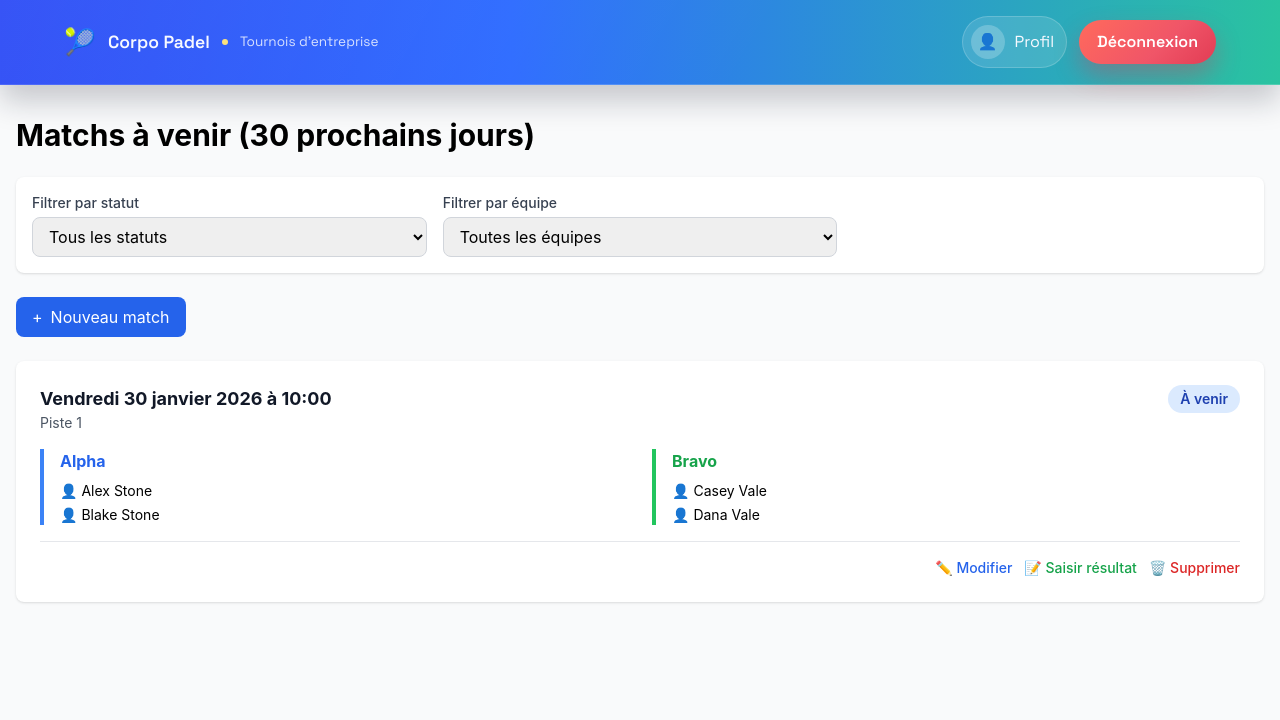
Test: Gestion des matchs › saisit un resultat et met a jour le statut
The width and height of the screenshot is (1280, 720).
Click the button "📝 Saisir résultat" at (1081, 568), box [1024,558,1137,578]
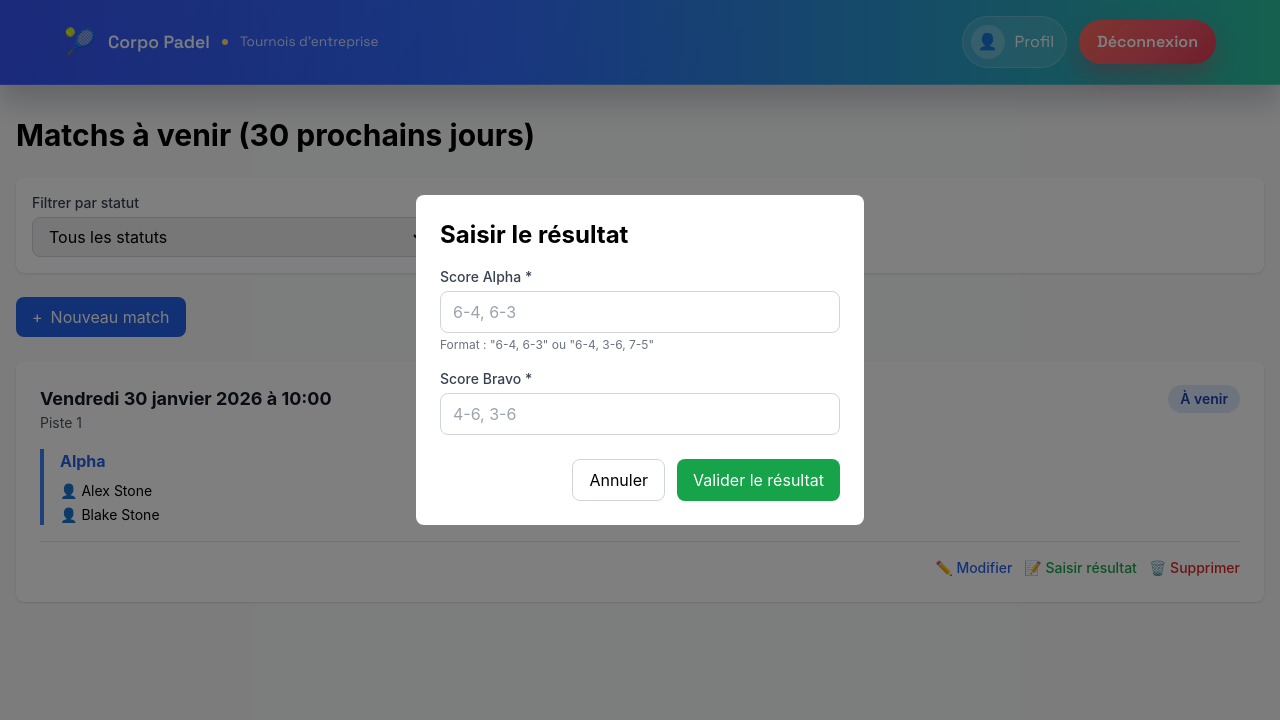
Type "6-4, 6-4" into the field with placeholder "6-4, 6-3" at (640, 312), box [440,291,840,333]
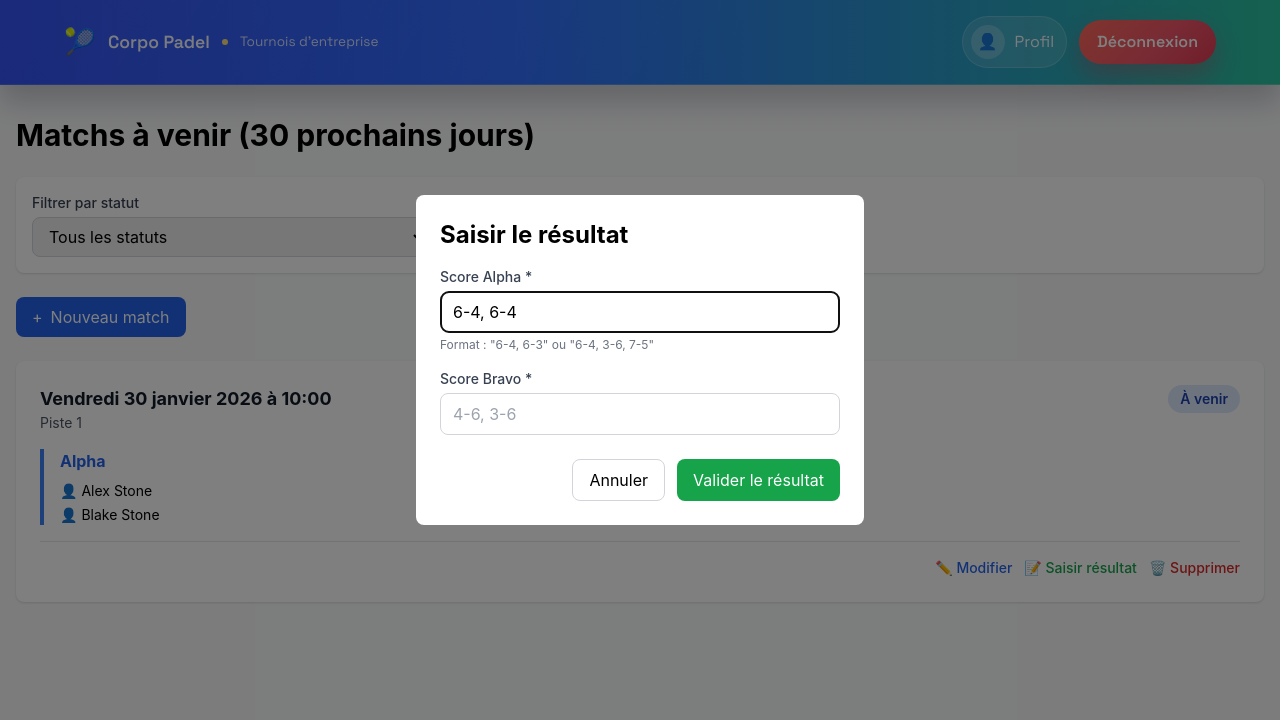
Type "4-6, 4-6" into the field with placeholder "4-6, 3-6" at (640, 414), box [440,393,840,435]
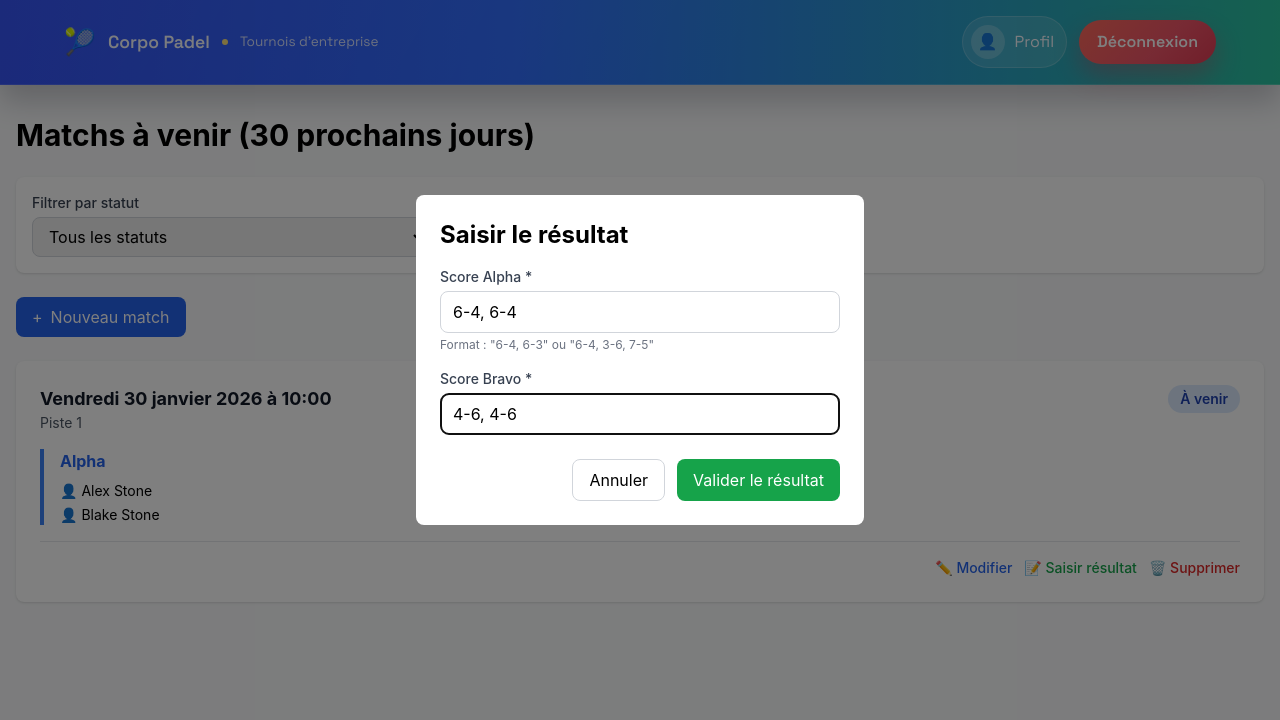
Click the submit button at (759, 480), box [677,459,840,501]
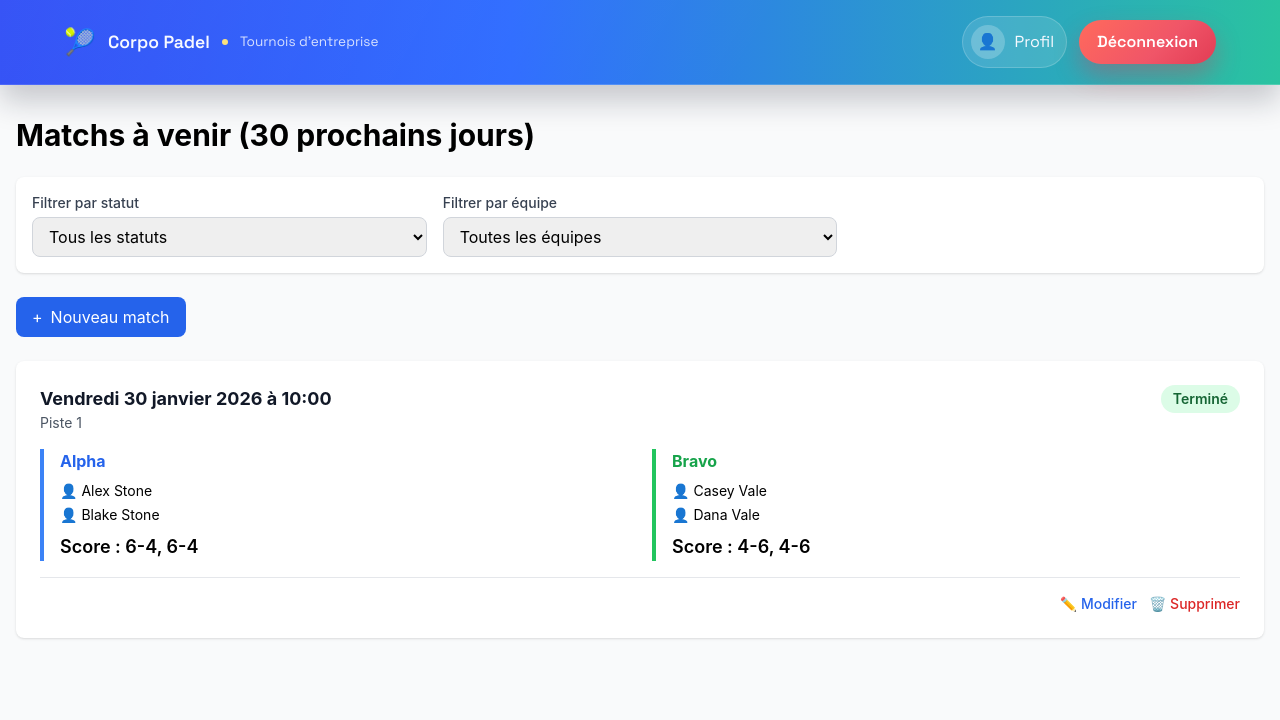
Check: the text "Score : 6-4, 6-4" is shown, box [60,536,198,557]
